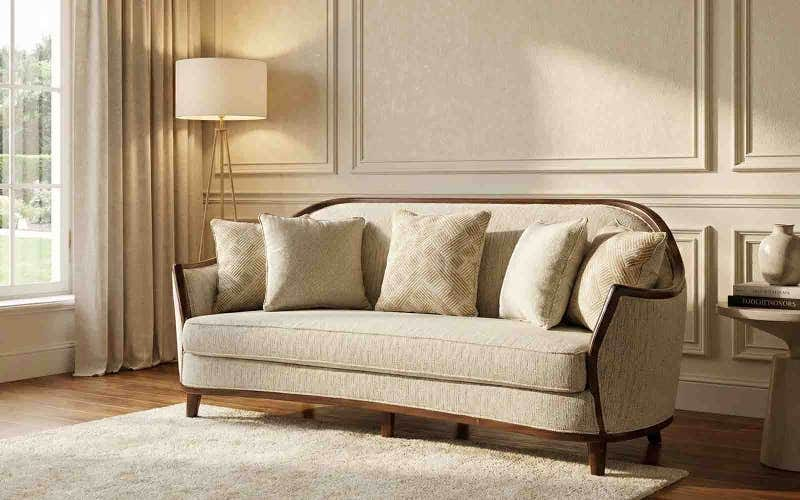3seatersofa: (174, 199, 685, 474)
backrest: (294, 197, 672, 317)
base: (182, 354, 597, 433)
leftarmrest: (587, 213, 686, 439)
leg: (589, 442, 606, 475), (186, 393, 201, 416), (381, 413, 395, 436), (648, 430, 659, 446), (456, 424, 468, 438)
pillow: (212, 214, 370, 311), (377, 210, 490, 314), (568, 219, 665, 328), (500, 220, 586, 328)
rightarmrest: (173, 259, 217, 375)
seat: (181, 309, 590, 393)
